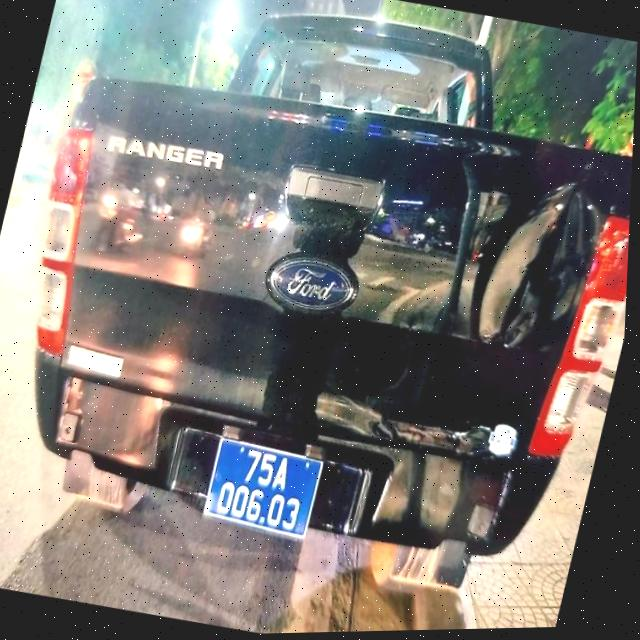car: (0, 0, 640, 628)
plate: (193, 430, 331, 546)
